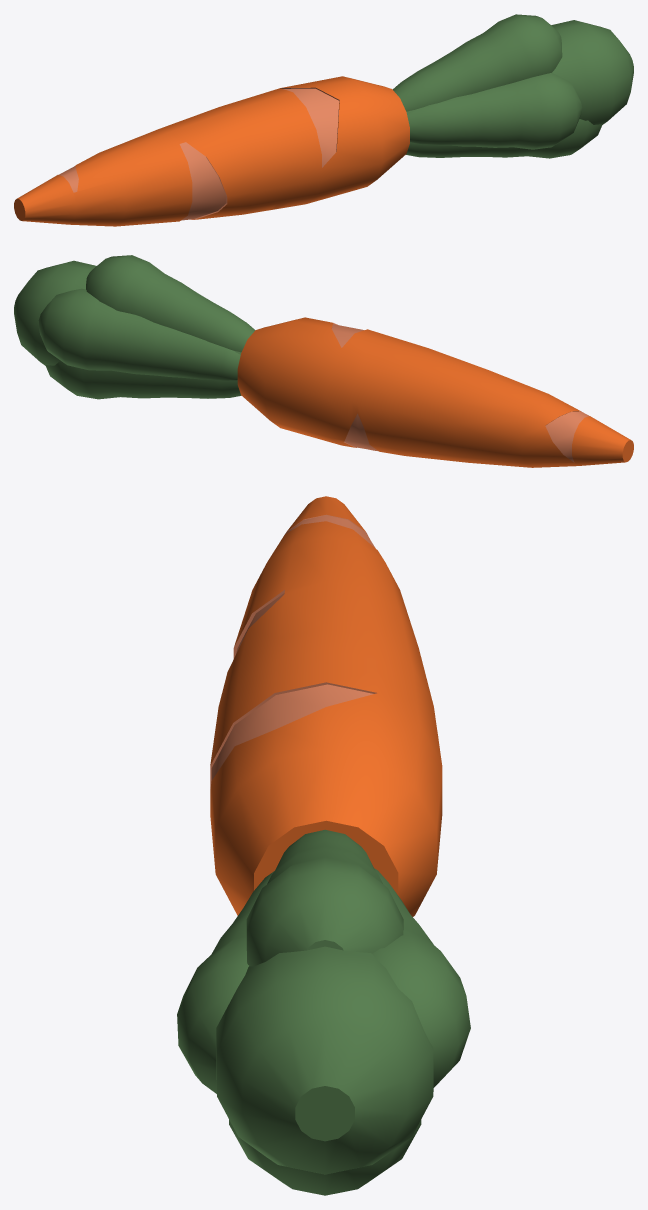
File: P_carotte.fbx
3 views of the same model, one above another, from view 1: azimuth 30°, elevation 25°; view 2: azimuth 150°, elevation 25°; view 3: azimuth 270°, elevation 25° (orthographic). The views are drawn at different scales.
Parts seen in each view (by area): view 1: Cylinder001; view 2: Cylinder001; view 3: Cylinder001.
Part boxes in pixels (box(x1,y1,x2,y2)): Cylinder001: box(14, 14, 633, 226); Cylinder001: box(14, 255, 633, 467); Cylinder001: box(177, 496, 470, 1195).
Size of the model in its own units: 12.04 by 2.71 by 2.53.
